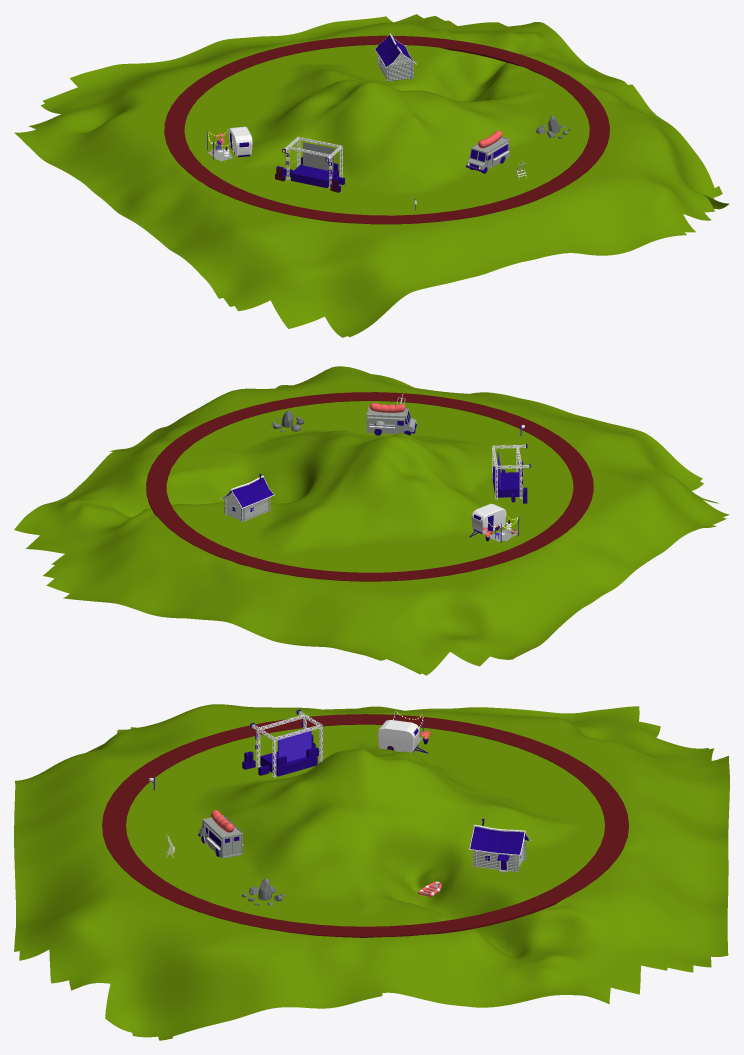
File: island.glb
The picture shows the model from 3 angles, top to bottom: view 1: azimuth 30°, elevation 25°; view 2: azimuth 150°, elevation 25°; view 3: azimuth 270°, elevation 25°; orthographic projection. The views are drawn at different scales.
Visible parts, largest first — view 1: Landscape, Street, Cabin_shed, STAGEmodul_Cube, TRUCK_Cube.001, Philips_PM5544_(SECAM_variation), Camper1_Mesh.006; view 2: Landscape, Street, Cabin_shed, TRUCK_Cube.001, Camper1_Mesh.006, STAGEmodul_Cube; view 3: Landscape, Street, Cabin_shed, Camper1_Mesh.006, TRUCK_Cube.001, Philips_PM5544_(SECAM_variation), STAGEmodul_Cube.
Part boxes in pixels (<box>): Landscape: <box>14,14,729,337</box>; Street: <box>164,35,609,224</box>; Cabin_shed: <box>374,33,416,81</box>; STAGEmodul_Cube: <box>291,164,338,187</box>; TRUCK_Cube.001: <box>467,136,510,170</box>; Philips_PM5544_(SECAM_variation): <box>303,142,333,171</box>; Camper1_Mesh.006: <box>228,126,252,157</box>; Landscape: <box>14,366,729,675</box>; Street: <box>146,392,593,581</box>; Cabin_shed: <box>219,474,274,522</box>; TRUCK_Cube.001: <box>366,406,415,433</box>; Camper1_Mesh.006: <box>469,503,506,537</box>; STAGEmodul_Cube: <box>492,472,522,497</box>; Landscape: <box>14,704,729,1040</box>; Street: <box>102,714,628,937</box>; Cabin_shed: <box>468,818,531,872</box>; Camper1_Mesh.006: <box>377,720,428,753</box>; TRUCK_Cube.001: <box>199,815,243,858</box>; Philips_PM5544_(SECAM_variation): <box>278,728,311,761</box>; STAGEmodul_Cube: <box>260,751,317,776</box>.
Size of what is drawn, in the model's own units: 32.56 by 7.12 by 33.47.
